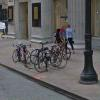Bicycle: (7, 34, 72, 78)
